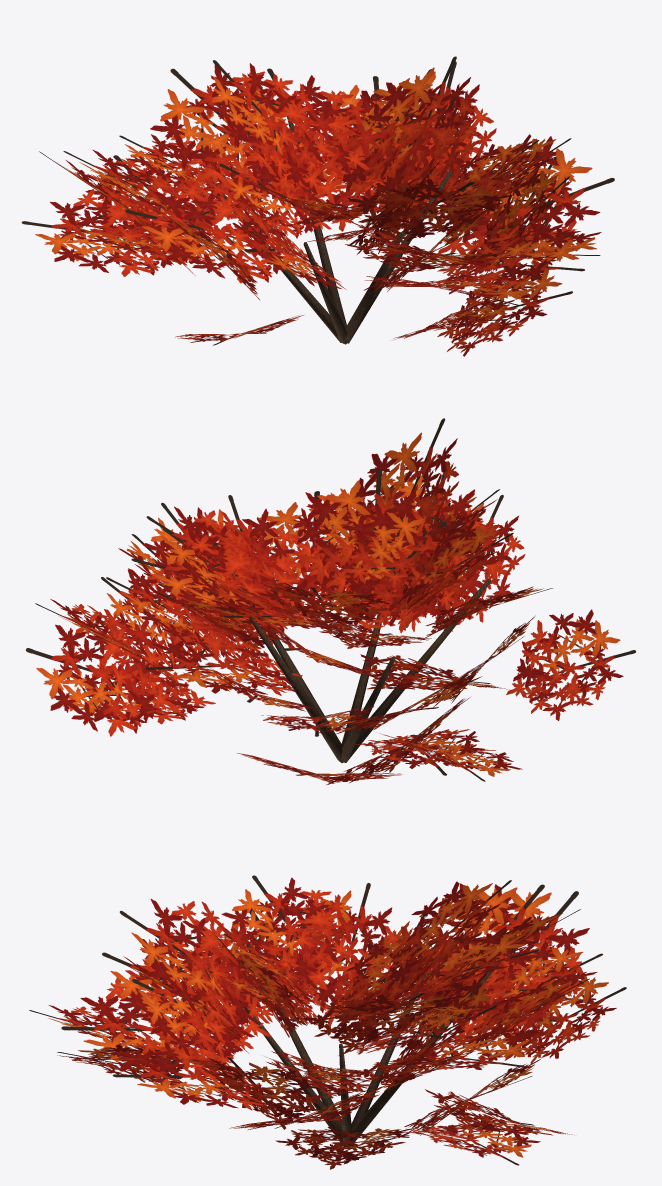
The model's file is shrub_autumn_red.glb.
The picture shows the model from 3 angles, top to bottom: view 1: azimuth 30°, elevation 25°; view 2: azimuth 150°, elevation 25°; view 3: azimuth 270°, elevation 25°; orthographic projection. The views are drawn at different scales.
Visible parts, largest first — view 1: ShrubFoliage, ShrubTwigs; view 2: ShrubFoliage, ShrubTwigs; view 3: ShrubFoliage, ShrubTwigs.
Boxes of the visible parts, x1,y1,x2,y2 form: ShrubFoliage: [21, 56, 614, 356]; ShrubTwigs: [212, 116, 452, 344]; ShrubFoliage: [26, 418, 636, 784]; ShrubTwigs: [236, 569, 491, 762]; ShrubFoliage: [29, 875, 626, 1169]; ShrubTwigs: [239, 941, 499, 1147].
Size of the model in its own units: 3.32 by 1.67 by 3.49.
Materials: 2 (2 with a texture image).
